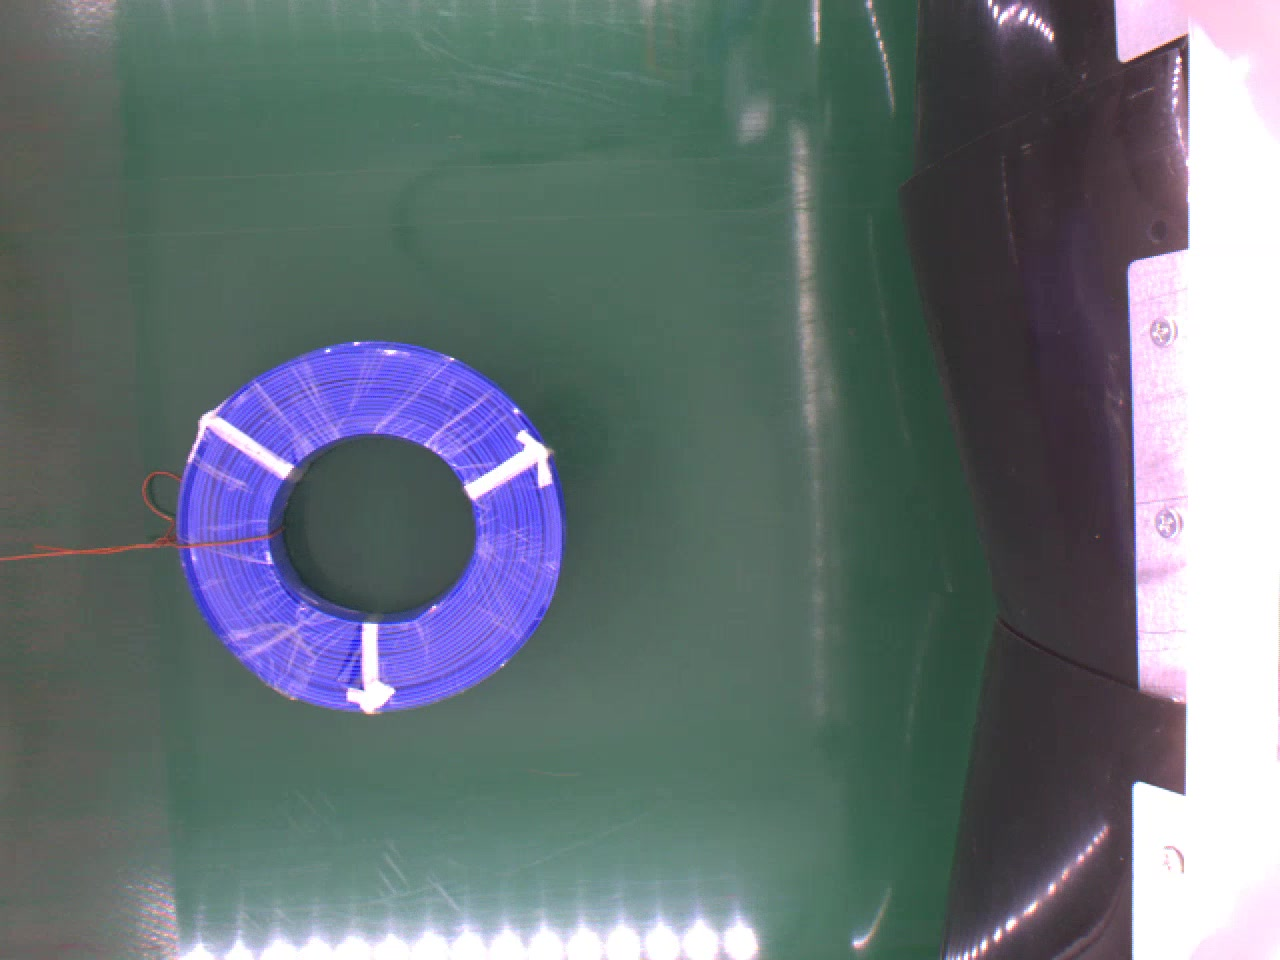blue: (173, 336, 565, 714)
